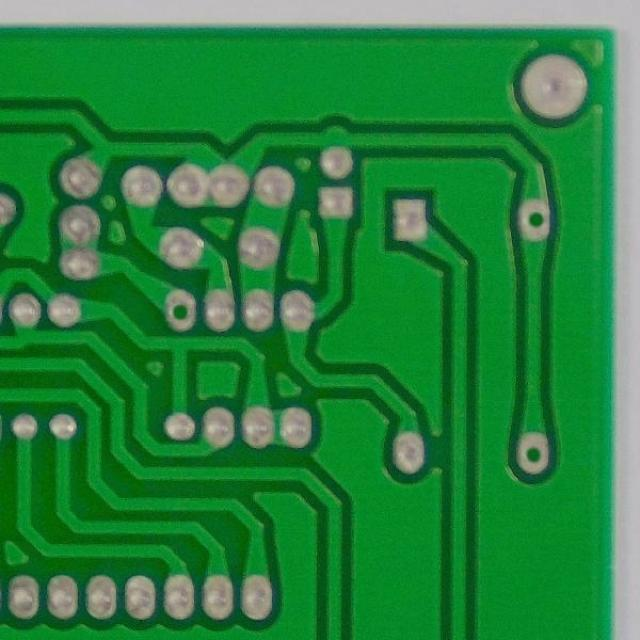Missing_Hole: (157, 286, 205, 335), (512, 425, 556, 478), (514, 195, 556, 244)
